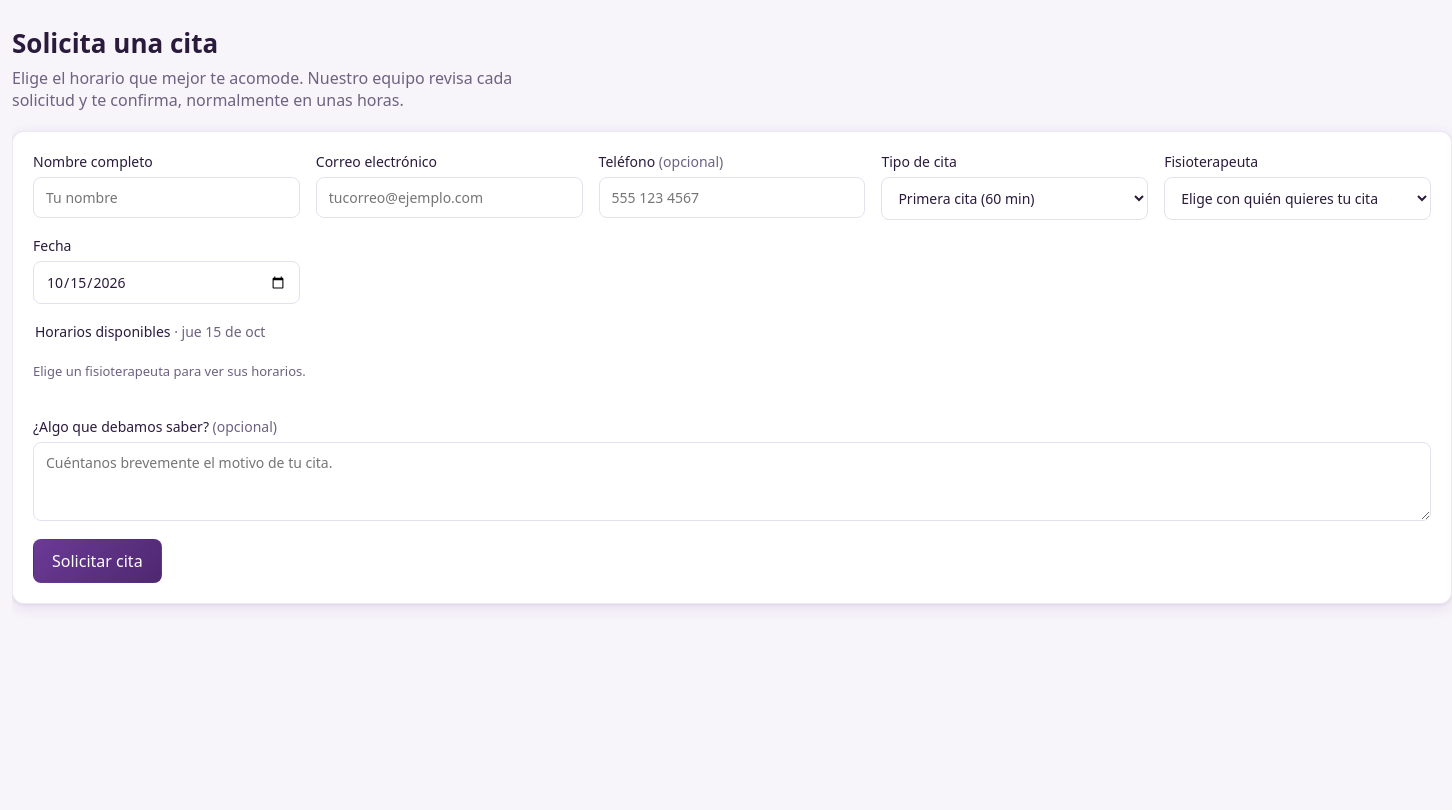
Home with the demo backend › a slot taken while the form is open is rejected in Spanish and the time is cleared
Select "Ana Fisio" in the dropdown labelled "Fisioterapeuta": [1298, 199] box [1164,177,1431,220]
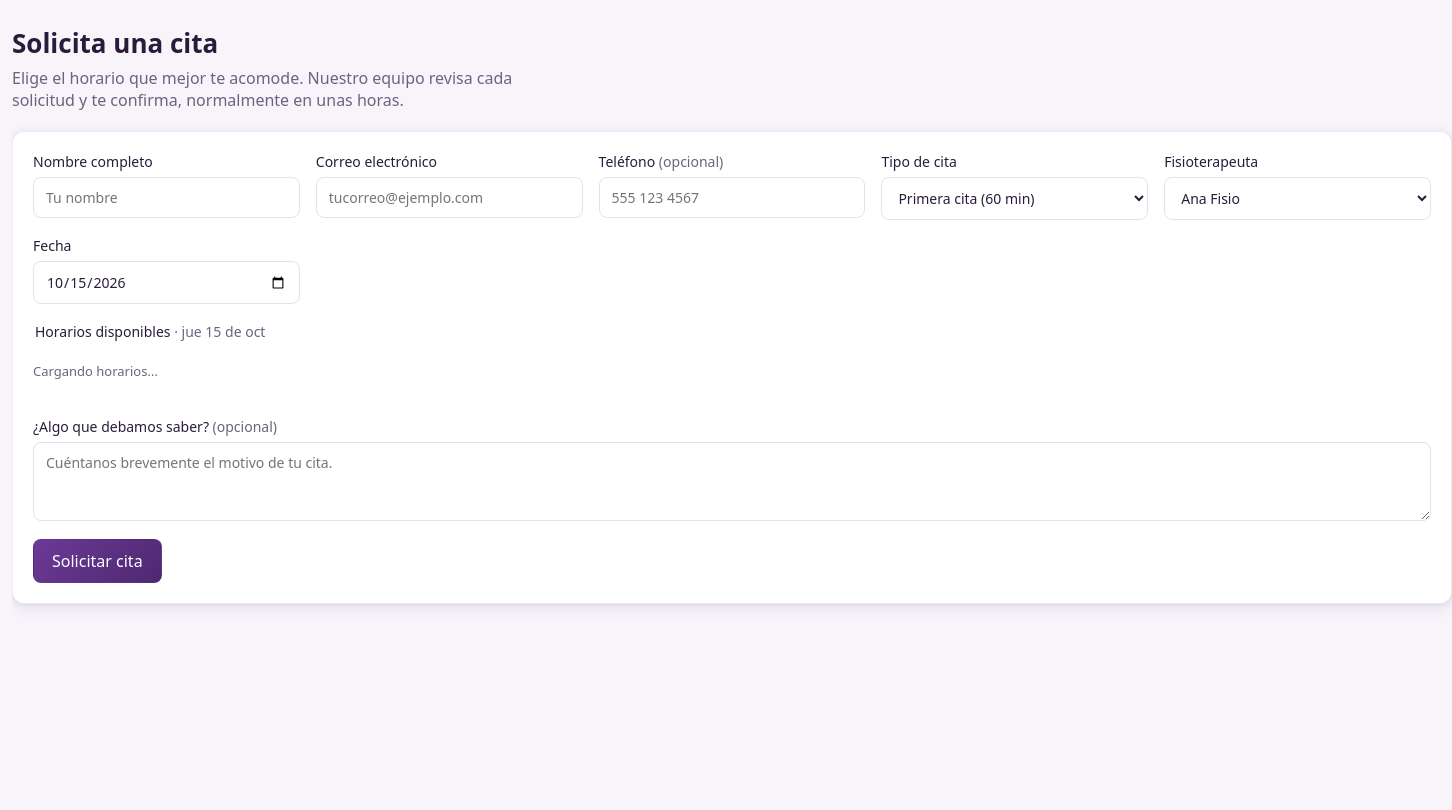
In the date field labelled "Fecha": [166, 283] box [33,261,300,304], type "2026-10-20"
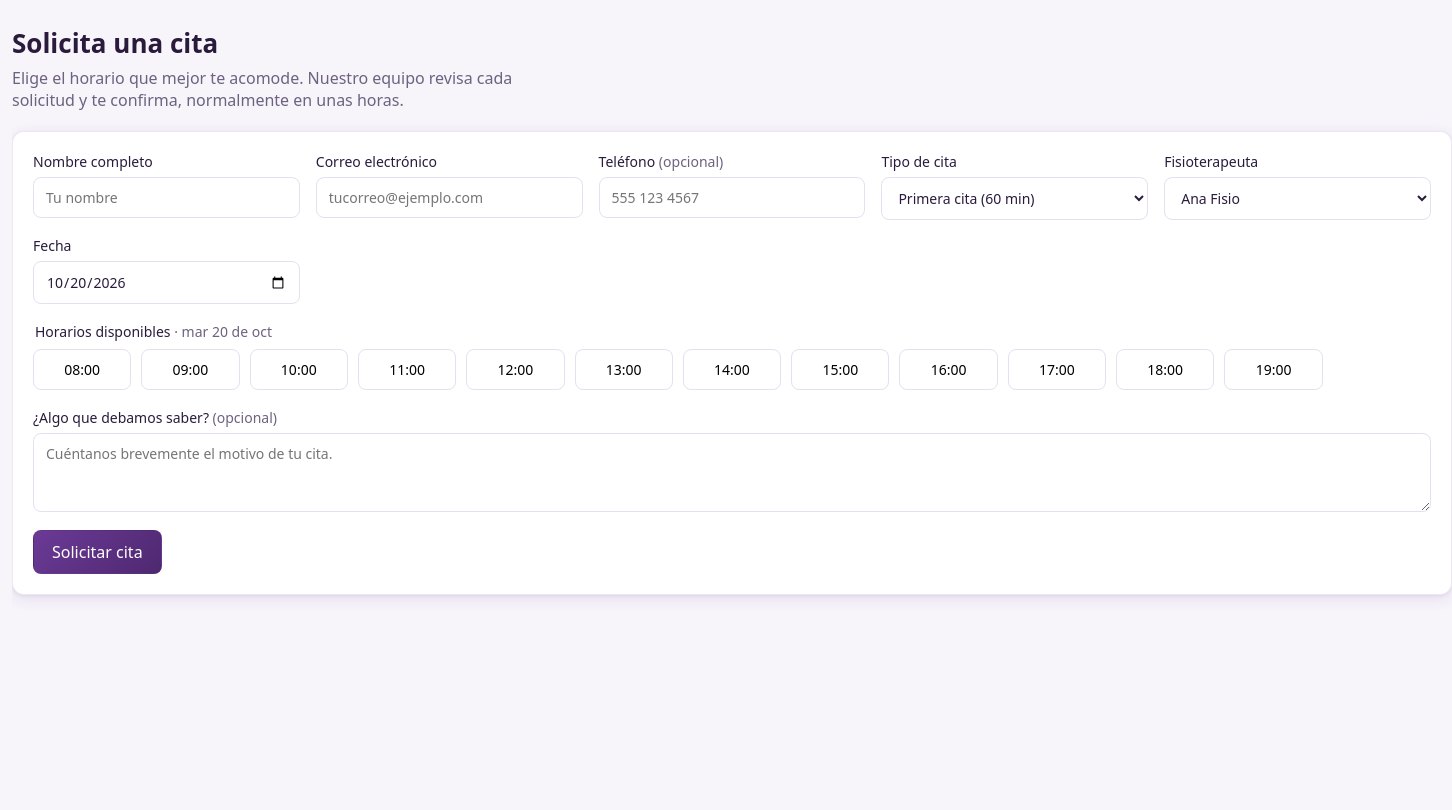
Click the button "12:00": [515, 370] box [466,349,564,390]
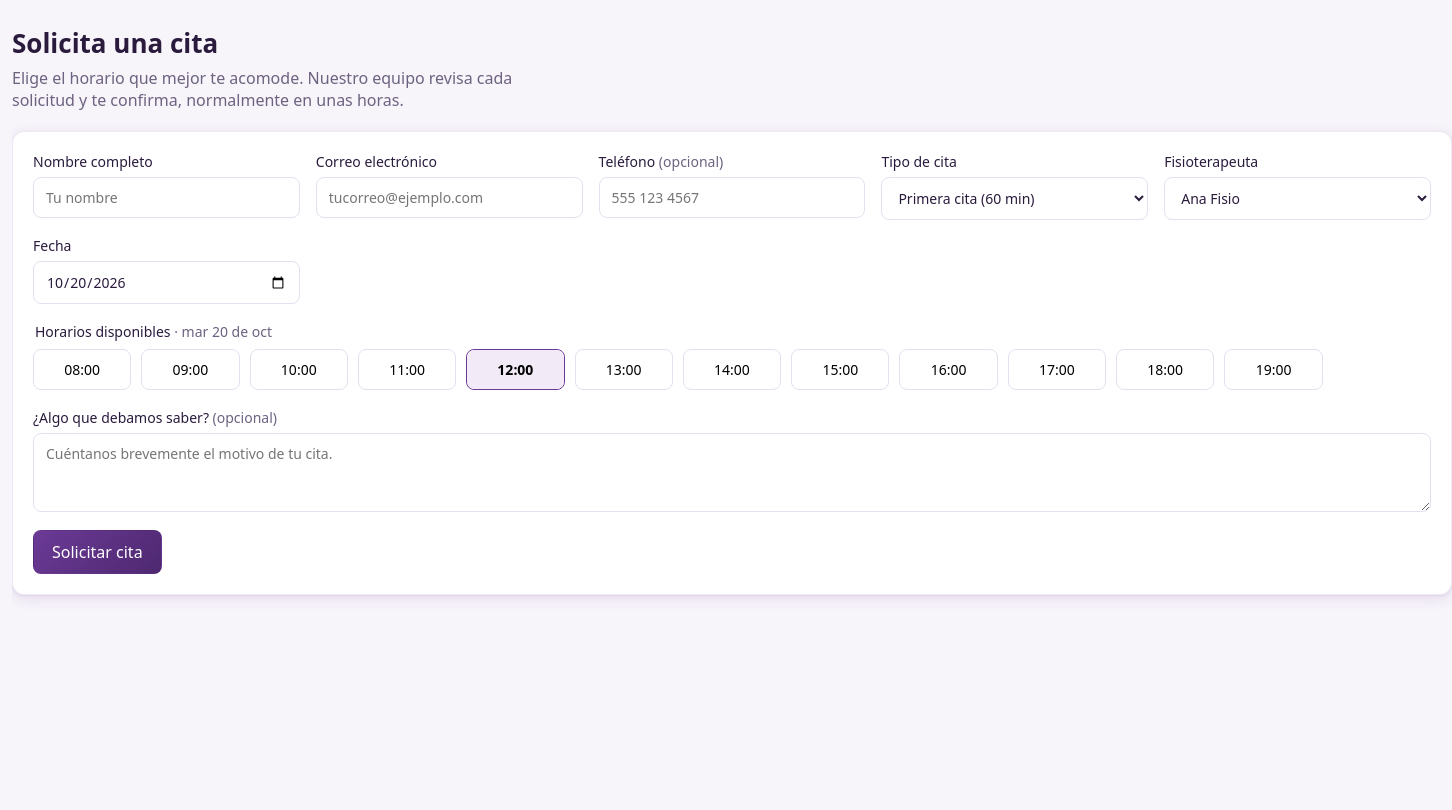
Expected: the button "12:00" has class "slot-selected", [466,349,564,390]
In the field labelled "Nombre completo": [166, 198] box [33,177,300,218], type "Prueba QA"
In the field labelled "Correo electrónico": [449, 198] box [316,177,583,218], type "qa@example.com"
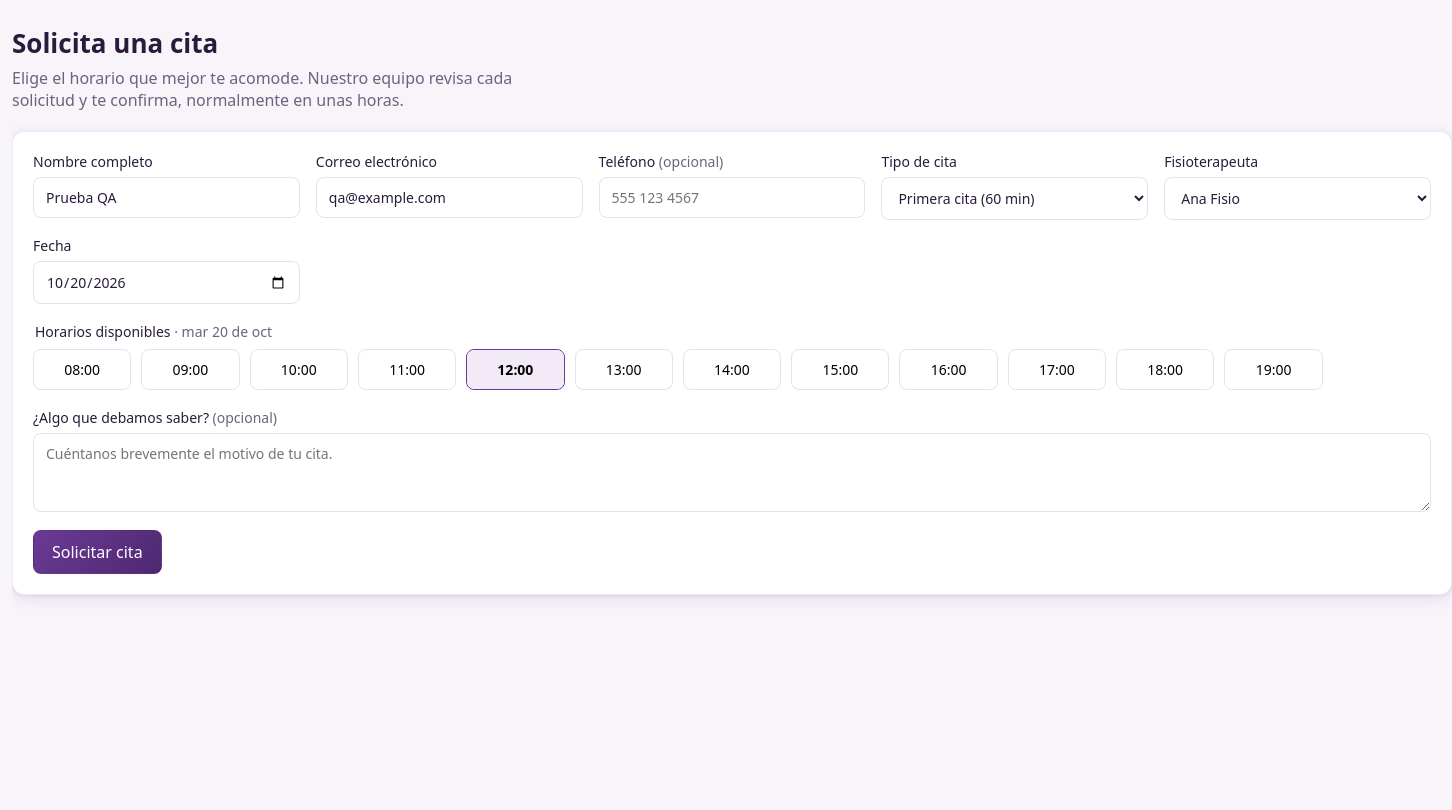
Click the button "Solicitar cita": [97, 552] box [33,530,162,574]
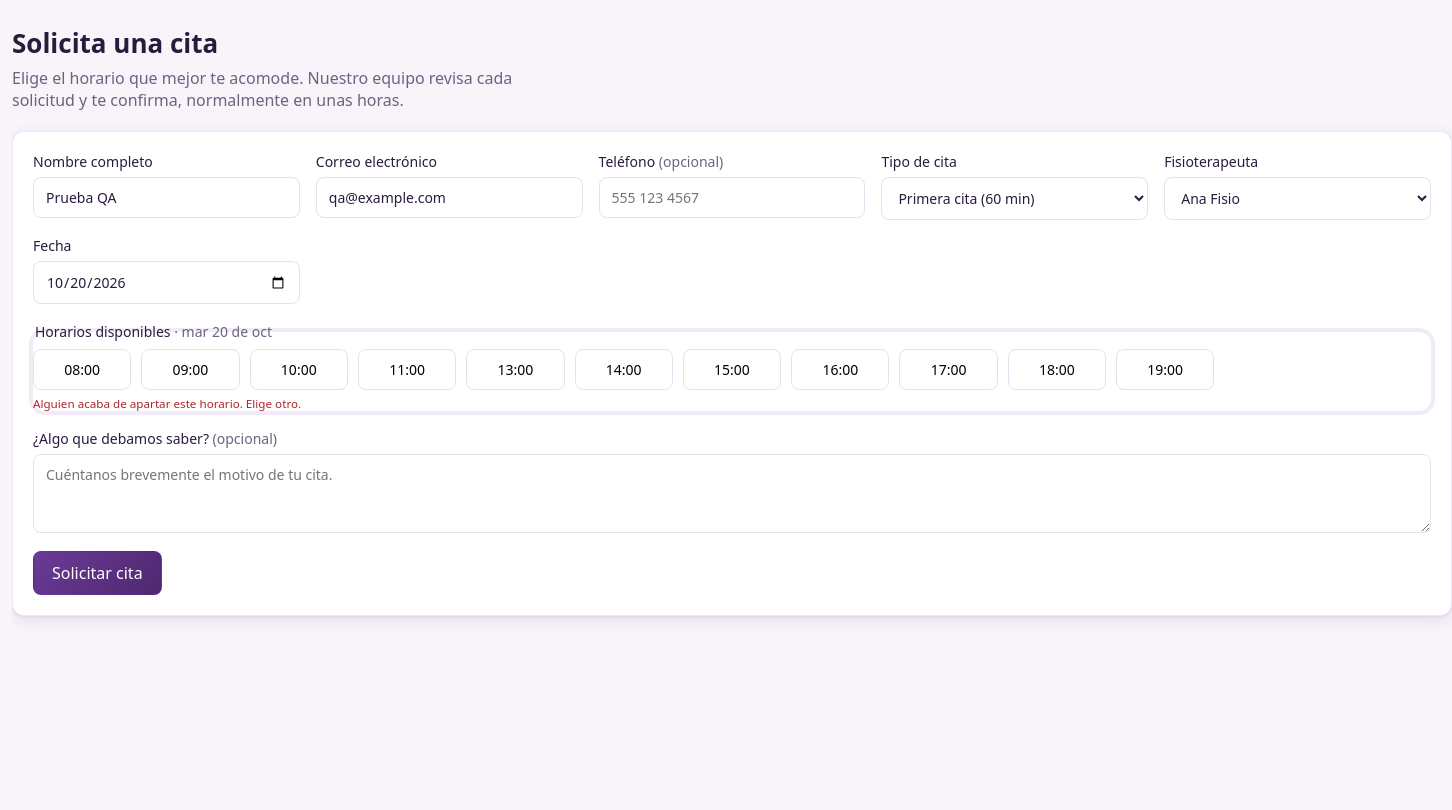
Expected: the text "Alguien acaba de apartar este horario. Elige otro." is shown, [33,396,301,411]
Expected: the button "12:00" is gone
Expected: the button with class "slot-selected" is gone
Click the button "Solicitar cita": [97, 573] box [33,551,162,595]
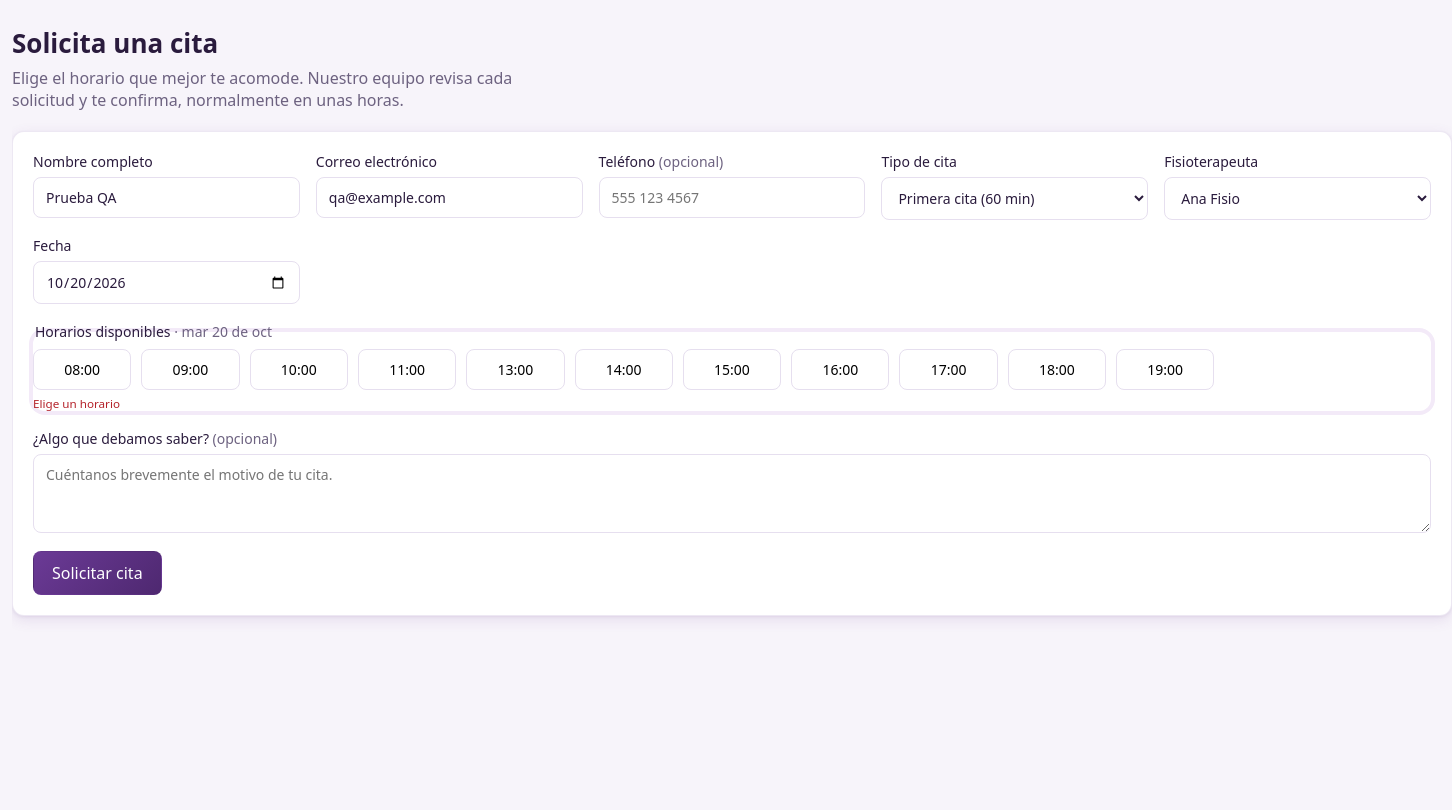
Expected: the text "Elige un horario" is shown, [33,396,120,411]
